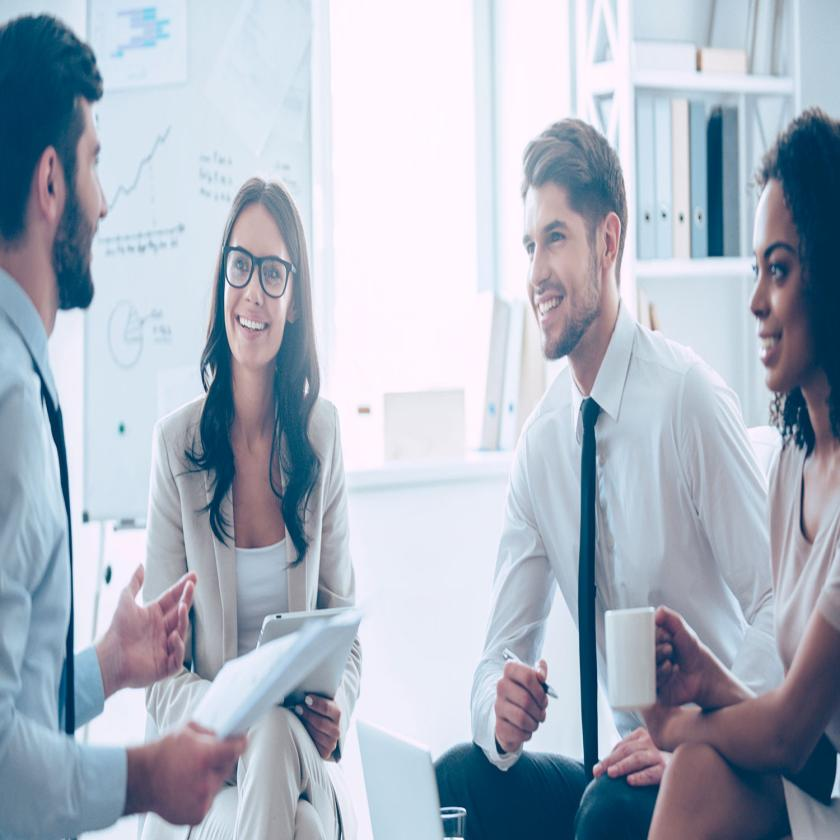Sin_casco: (0, 18, 116, 318), (511, 110, 629, 364), (745, 103, 840, 418), (208, 175, 314, 406)
